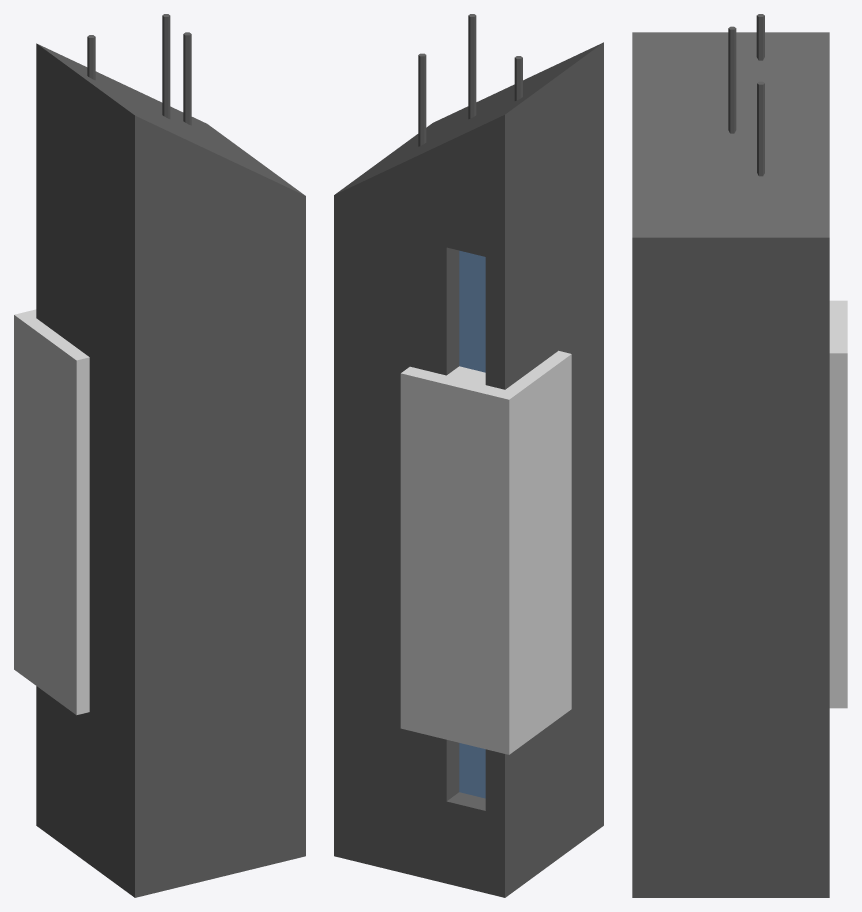
The picture shows the model from 3 angles, left to right: view 1: azimuth 30°, elevation 25°; view 2: azimuth 150°, elevation 25°; view 3: azimuth 270°, elevation 25°; orthographic projection.
Visible parts, largest first — view 1: Cube.001; view 2: Cube.001; view 3: Cube.001.
Part boxes in pixels (box(x1,y1,x2,y2)): Cube.001: box(14, 14, 305, 897); Cube.001: box(334, 14, 603, 897); Cube.001: box(632, 14, 847, 897).
Bounding box in the file's own units: 215 × 924 × 219.
